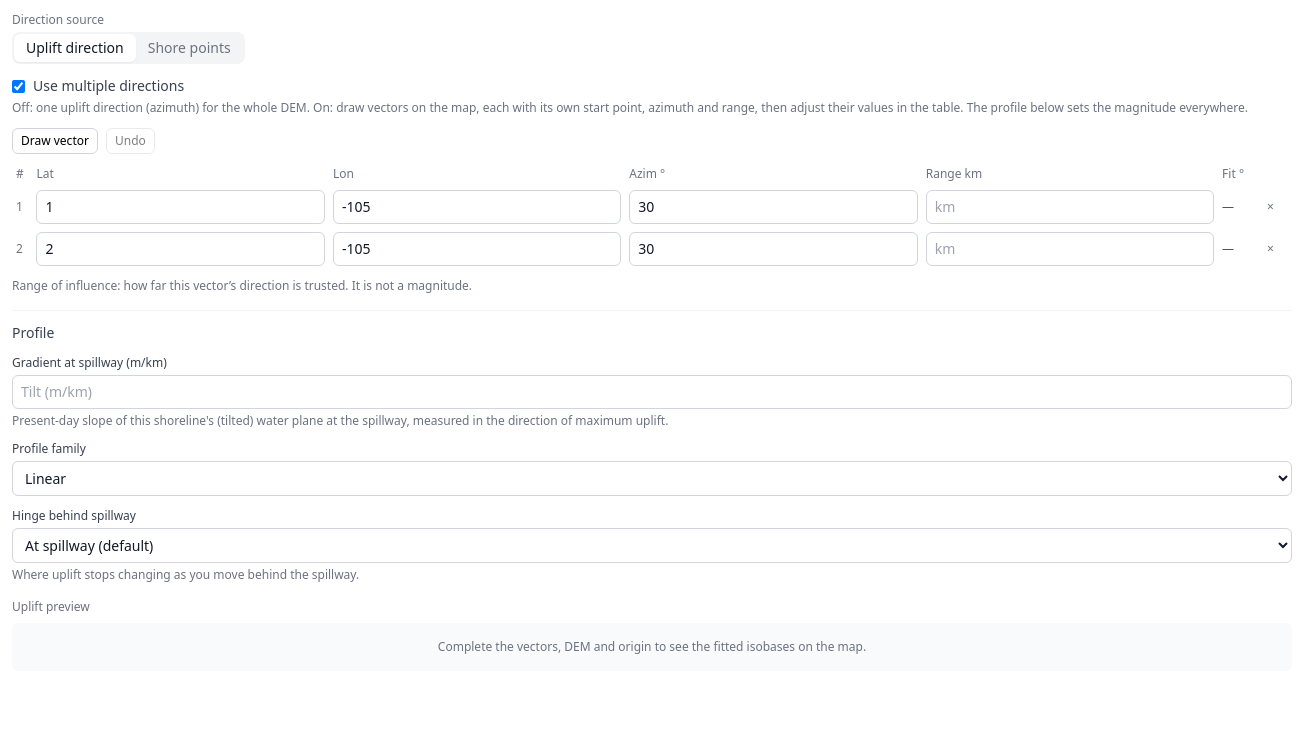
vectors table › every remove button has an aria-label naming its row; Undo brings the row back
Expected: the button named "Remove vector 1" is shown, [1261,199,1280,215]
Step 1. Click the button named "Remove vector 2" → (1270, 249), box [1261,241,1280,257]
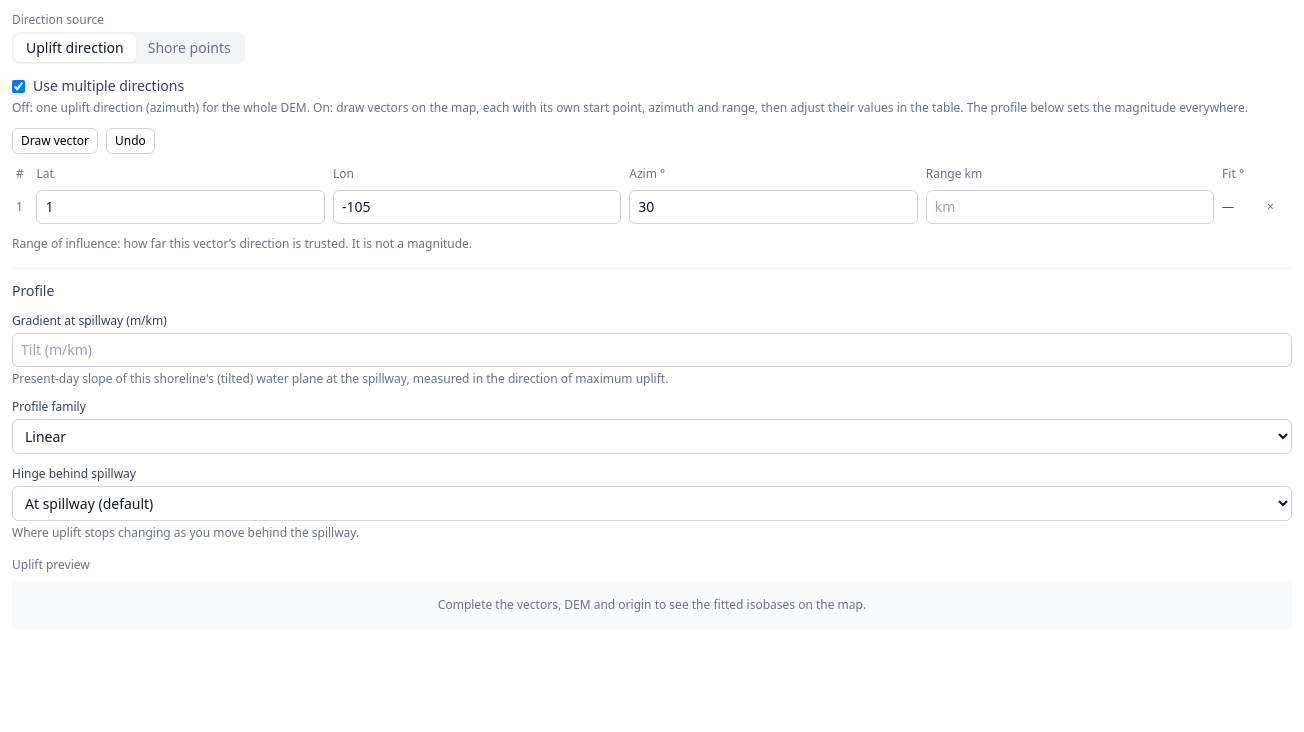
Expected: the button "Undo" is enabled
Step 2. Click the button "Undo" → (130, 141), box [106,128,155,154]
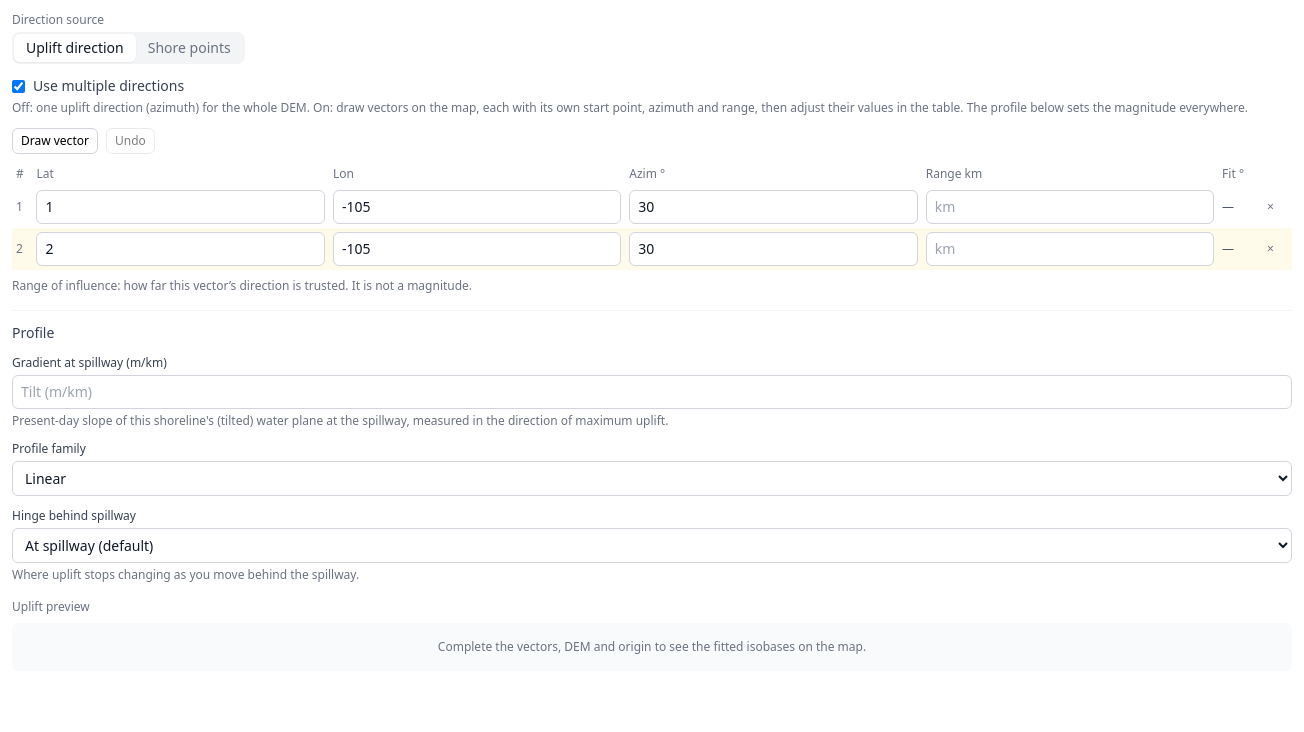
Expected: the button "Undo" is disabled, [106,128,155,154]
